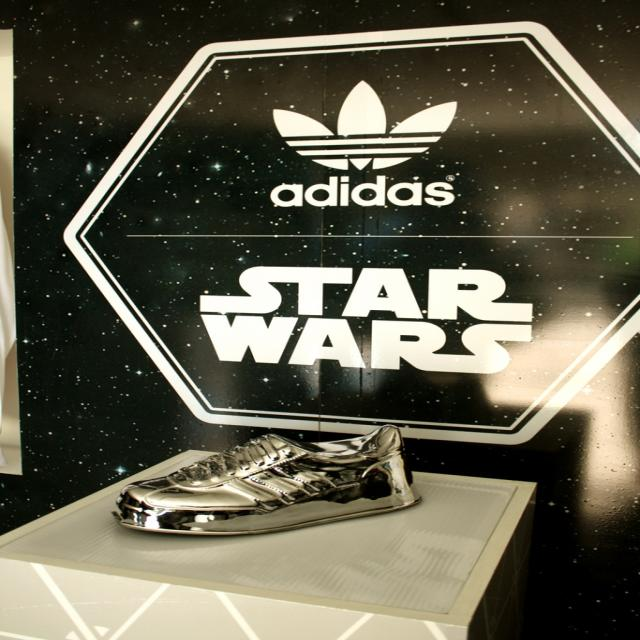adidas: (262, 79, 467, 211)
